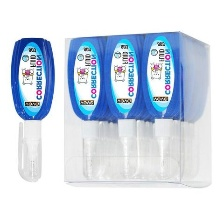book: (61, 28, 215, 189)
correction_fluid: (139, 31, 188, 182), (9, 36, 56, 184), (101, 32, 146, 181), (65, 35, 110, 181)
